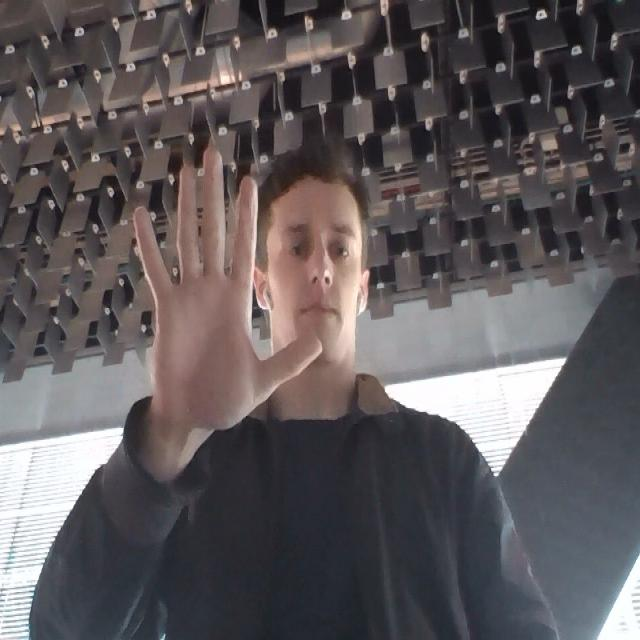backward: (120, 134, 330, 422)
